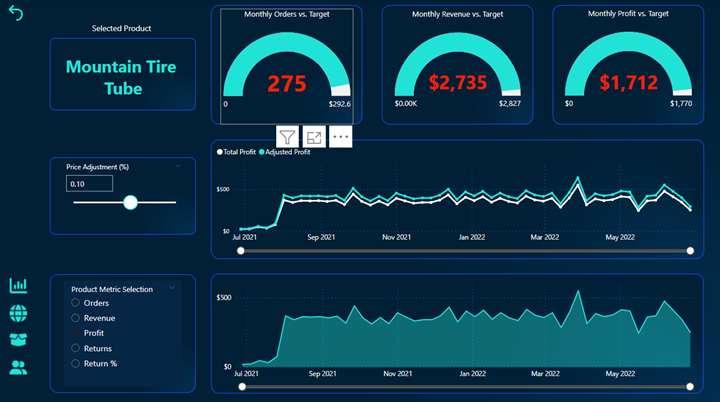

The page's visual inventory and layout, read from the dashboard file:
{"tool":"powerbi","page":{"name":"Product Detail","canvas":[1280,720],"ordinal":3},"visuals":[{"type":"gauge","title":"Monthly Orders vs. Target","fields":{"Y":["Measure Table.Total Orders"],"MaxValue":["Measure Table.Order Target"]},"box":[390.9,17.4,235.6,205.9],"z":0},{"type":"actionButton","box":[10.5,488.9,44.5,39.1],"z":0,"group":"g1"},{"type":"gauge","title":"Monthly Revenue vs. Target","fields":{"Y":["Measure Table.Total Revenue"],"MaxValue":["Measure Table.Revenue Target"]},"box":[694.5,17.4,233.8,205.9],"z":1000},{"type":"actionButton","box":[10.5,585,44.5,39.1],"z":1000,"group":"g1"},{"type":"gauge","title":"Monthly Profit vs. Target","fields":{"Y":["Measure Table.Total Profit"],"MaxValue":["Measure Table.Profit Target"]},"box":[996.4,15.7,235.6,207.6],"z":2000},{"type":"actionButton","box":[10.5,633,44.5,39.1],"z":2000,"group":"g1"},{"type":"lineChart","title":"Profits Trending","fields":{"Category":["Calendar Lookup.Date Hierarchy.Start of Year","Calendar Lookup.Date Hierarchy.Start of Month","Calendar Lookup.Date Hierarchy.Start of Week","Calendar Lookup.Date Hierarchy.Date"],"Y":["Measure Table.Total Profit","Measure Table.Adjusted Profit"]},"box":[378.7,251.3,876,205.9],"z":3000},{"type":"actionButton","box":[10.5,536.9,44.5,39.1],"z":3000,"group":"g1"},{"type":"areaChart","title":"Returns Trending","fields":{"Y":["Measure Table.Total Orders"],"Category":["Calendar Lookup.Date Hierarchy.Start of Year","Calendar Lookup.Date Hierarchy.Start of Month","Calendar Lookup.Date Hierarchy.Start of Week","Calendar Lookup.Date Hierarchy.Date"]},"box":[378.7,490.3,876,207.6],"z":4000},{"type":"card","fields":{"Values":["Min(Product Lookup.ProductName)"]},"box":[89,73.3,258.3,122.1],"z":5000},{"type":"textbox","box":[83.8,36.6,263.5,36.6],"z":6000},{"type":"slicer","fields":{"Values":["Price Adjustment (%).Price Adjustment (%)"]},"box":[104.7,284.4,228.6,130.9],"z":7000},{"type":"slicer","fields":{"Values":["Product Metric Selection.Product Metric Selection"]},"box":[113.4,499.1,209.4,188.5],"z":8000},{"type":"shape","title":"Left Nav Background","box":[0,1.7,64.6,708.5],"z":9000},{"type":"actionButton","box":[8.7,5.2,43.6,38.4],"z":10000},{"type":"group","id":"g1","title":"Navigation Buttons","box":[10.5,488.9,44.5,183.3],"z":11000}]}

Visuals, with their boxes in screenshot pixels (x1, y1, x2, y2), scaled from the page's 1280x720 canvas onto the 720x402 screenshot:
"Monthly Orders vs. Target" gauge: box(220, 10, 352, 125)
actionButton: box(6, 273, 31, 295)
"Monthly Revenue vs. Target" gauge: box(391, 10, 522, 125)
actionButton: box(6, 327, 31, 348)
"Monthly Profit vs. Target" gauge: box(560, 9, 693, 125)
actionButton: box(6, 353, 31, 375)
"Profits Trending" lineChart: box(213, 140, 706, 255)
actionButton: box(6, 300, 31, 322)
"Returns Trending" areaChart: box(213, 274, 706, 390)
card - Min(Product Lookup.ProductName): box(50, 41, 195, 109)
textbox: box(47, 20, 195, 41)
slicer - Price Adjustment (%).Price Adjustment (%): box(59, 159, 187, 232)
slicer - Product Metric Selection.Product Metric Selection: box(64, 279, 182, 384)
"Left Nav Background" shape: box(0, 1, 36, 397)
actionButton: box(5, 3, 29, 24)
"Navigation Buttons" group: box(6, 273, 31, 375)
